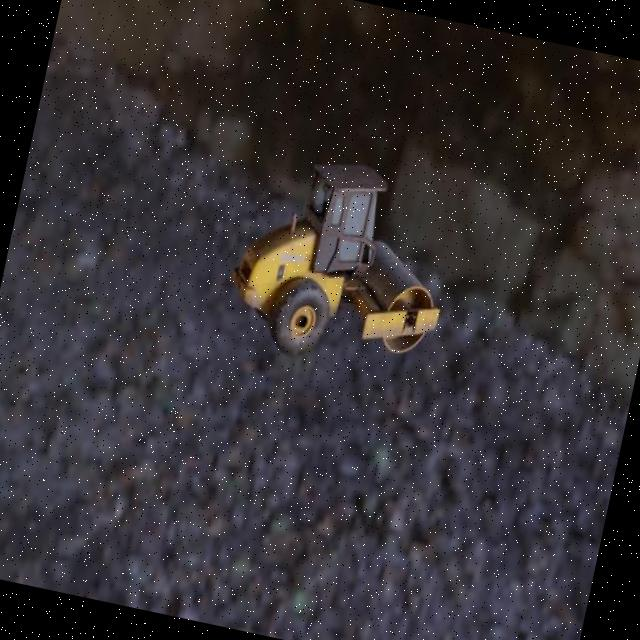Roller: (217, 140, 466, 384)
